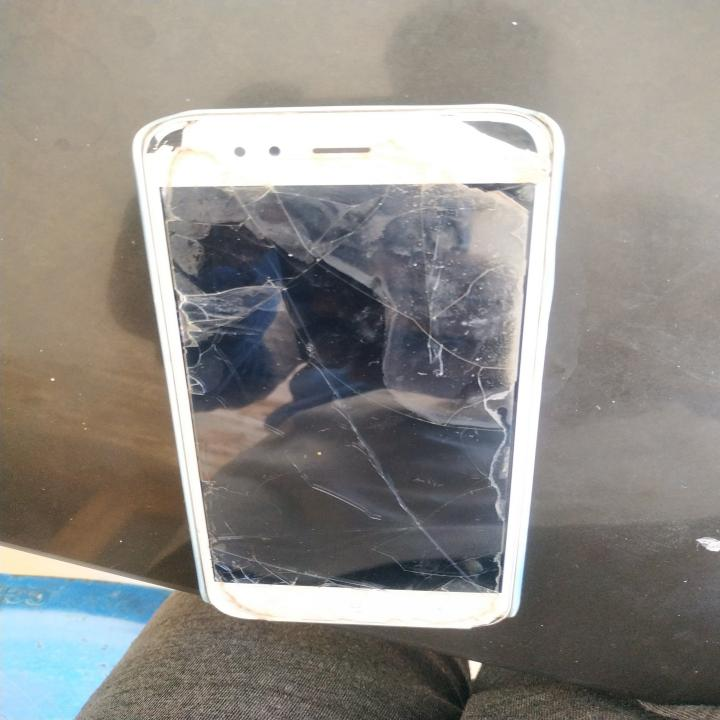Crack: (154, 117, 542, 621)
